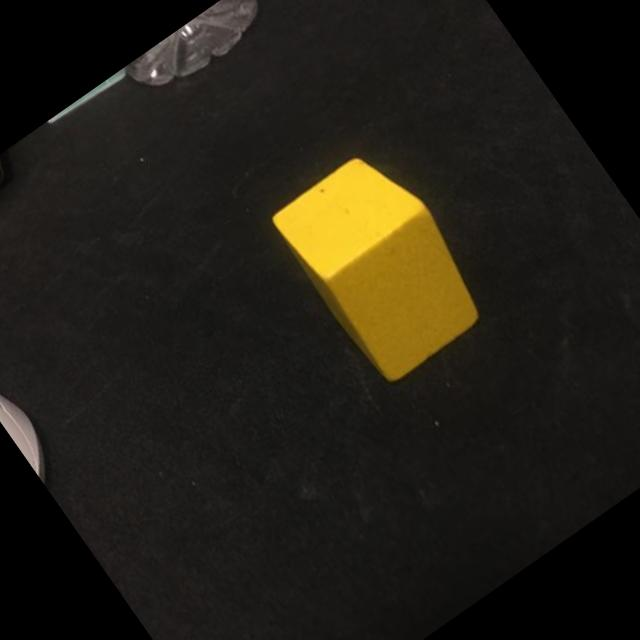yellow: (267, 139, 497, 386)
